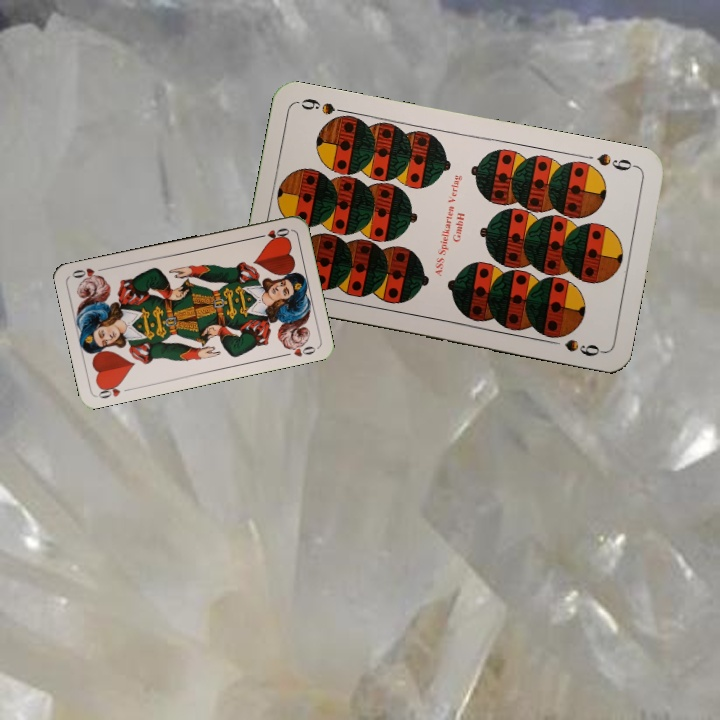HO: (253, 224, 292, 243), (94, 378, 124, 401)
S9: (592, 149, 640, 174)
